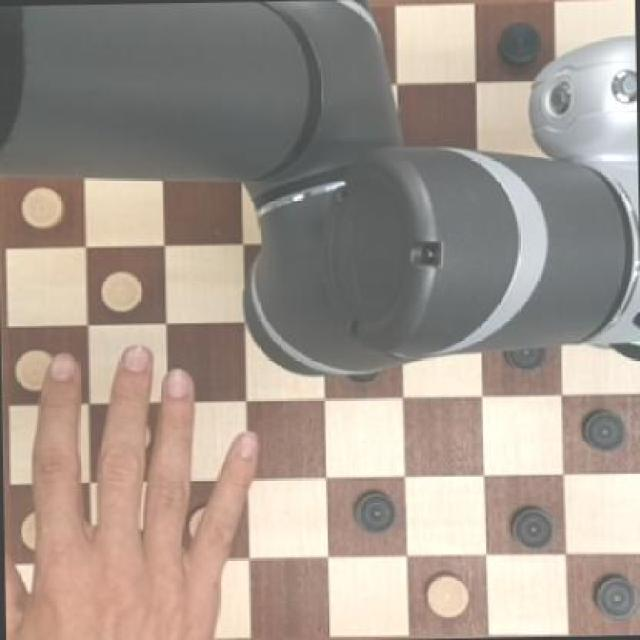black: (348, 484, 400, 539), (578, 405, 634, 456), (505, 498, 557, 552), (590, 570, 640, 626), (499, 20, 541, 64)
white: (423, 570, 473, 624), (21, 182, 62, 234), (101, 270, 145, 316), (13, 343, 52, 394)
